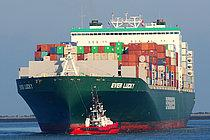Ship: (13, 10, 200, 136)
